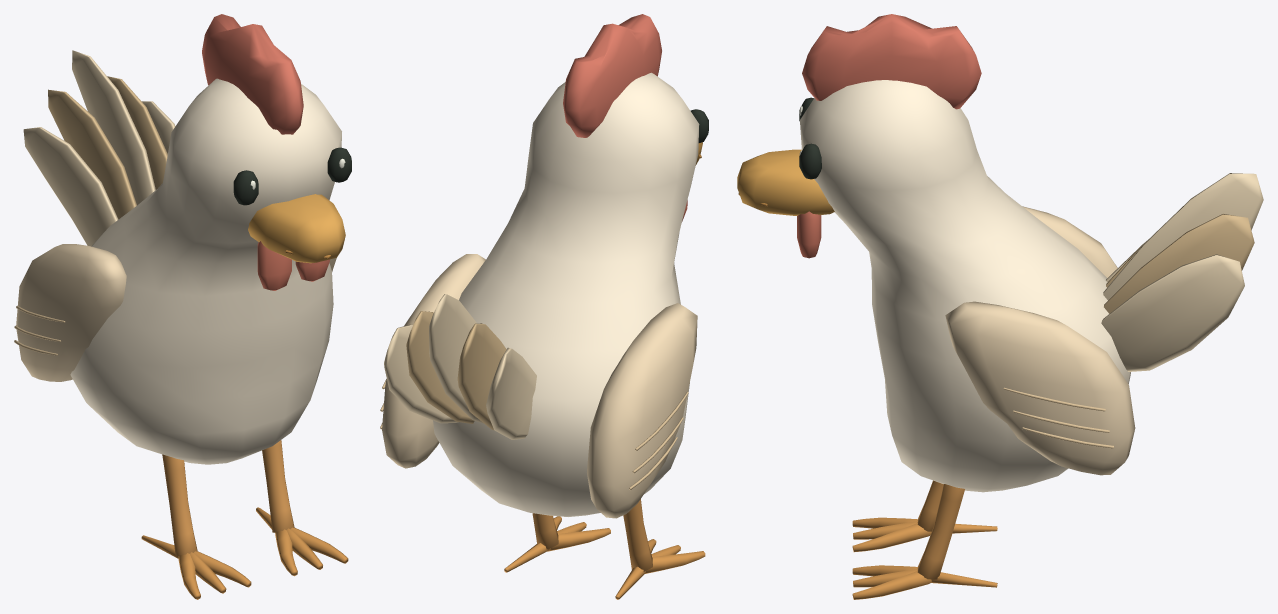
File: chicken-lod.gltf
The picture shows the model from 3 angles, left to right: view 1: azimuth 30°, elevation 25°; view 2: azimuth 150°, elevation 25°; view 3: azimuth 270°, elevation 25°; orthographic projection. The views are drawn at different scales.
Visible parts, largest first — view 1: continuous-body-neck, sculpted-wing--1, scalloped-comb, tail-feather-0, upper-beak, tail-feather-2, tail-feather-1, ankle--1, tail-feather-3, ankle-1, wattle--1, eye--1 (+9 smaller); view 2: continuous-body-neck, sculpted-wing--1, scalloped-comb, sculpted-wing-1, tail-feather-0, tail-feather-2, tail-feather-1, tail-feather-3, tail-feather-4, ankle--1, ankle-1, foot-toe-1--1 (+1 smaller); view 3: continuous-body-neck, sculpted-wing-1, scalloped-comb, tail-feather-4, tail-feather-2, tail-feather-3, upper-beak, ankle-1, sculpted-wing--1, wattle-1, foot-toe-1-1, foot-toe--1-1 (+1 smaller).
Boxes of the visible parts, left/top/right/bottom form: continuous-body-neck: left=70, top=78, right=341, bottom=464; sculpted-wing--1: left=16, top=244, right=126, bottom=381; scalloped-comb: left=202, top=14, right=303, bottom=134; tail-feather-0: left=23, top=127, right=118, bottom=246; upper-beak: left=248, top=194, right=345, bottom=263; tail-feather-2: left=72, top=50, right=155, bottom=205; tail-feather-1: left=48, top=89, right=136, bottom=219; ankle--1: left=162, top=454, right=197, bottom=556; tail-feather-3: left=107, top=76, right=167, bottom=189; ankle-1: left=262, top=440, right=294, bottom=532; wattle--1: left=257, top=241, right=291, bottom=290; eye--1: left=233, top=170, right=258, bottom=205; continuous-body-neck: left=433, top=72, right=699, bottom=516; sculpted-wing--1: left=587, top=303, right=697, bottom=518; scalloped-comb: left=563, top=14, right=661, bottom=137; sculpted-wing-1: left=382, top=254, right=485, bottom=468; tail-feather-0: left=486, top=347, right=536, bottom=439; tail-feather-2: left=429, top=294, right=484, bottom=423; tail-feather-1: left=457, top=323, right=506, bottom=430; tail-feather-3: left=406, top=311, right=474, bottom=423; tail-feather-4: left=384, top=324, right=458, bottom=423; ankle--1: left=623, top=499, right=652, bottom=571; ankle-1: left=532, top=513, right=558, bottom=549; foot-toe-1--1: left=547, top=528, right=610, bottom=551; continuous-body-neck: left=800, top=80, right=1130, bottom=492; sculpted-wing-1: left=945, top=301, right=1135, bottom=475; scalloped-comb: left=802, top=14, right=981, bottom=109; tail-feather-4: left=1101, top=254, right=1244, bottom=371; tail-feather-2: left=1103, top=173, right=1263, bottom=300; tail-feather-3: left=1104, top=214, right=1254, bottom=313; upper-beak: left=737, top=149, right=834, bottom=215; ankle-1: left=917, top=484, right=964, bottom=579; sculpted-wing--1: left=1022, top=206, right=1117, bottom=277; wattle-1: left=797, top=211, right=821, bottom=258; foot-toe-1-1: left=852, top=571, right=931, bottom=599; foot-toe--1-1: left=852, top=523, right=931, bottom=552.
Bounding box in the file's own units: 0.5076 × 0.968 × 0.8407.
